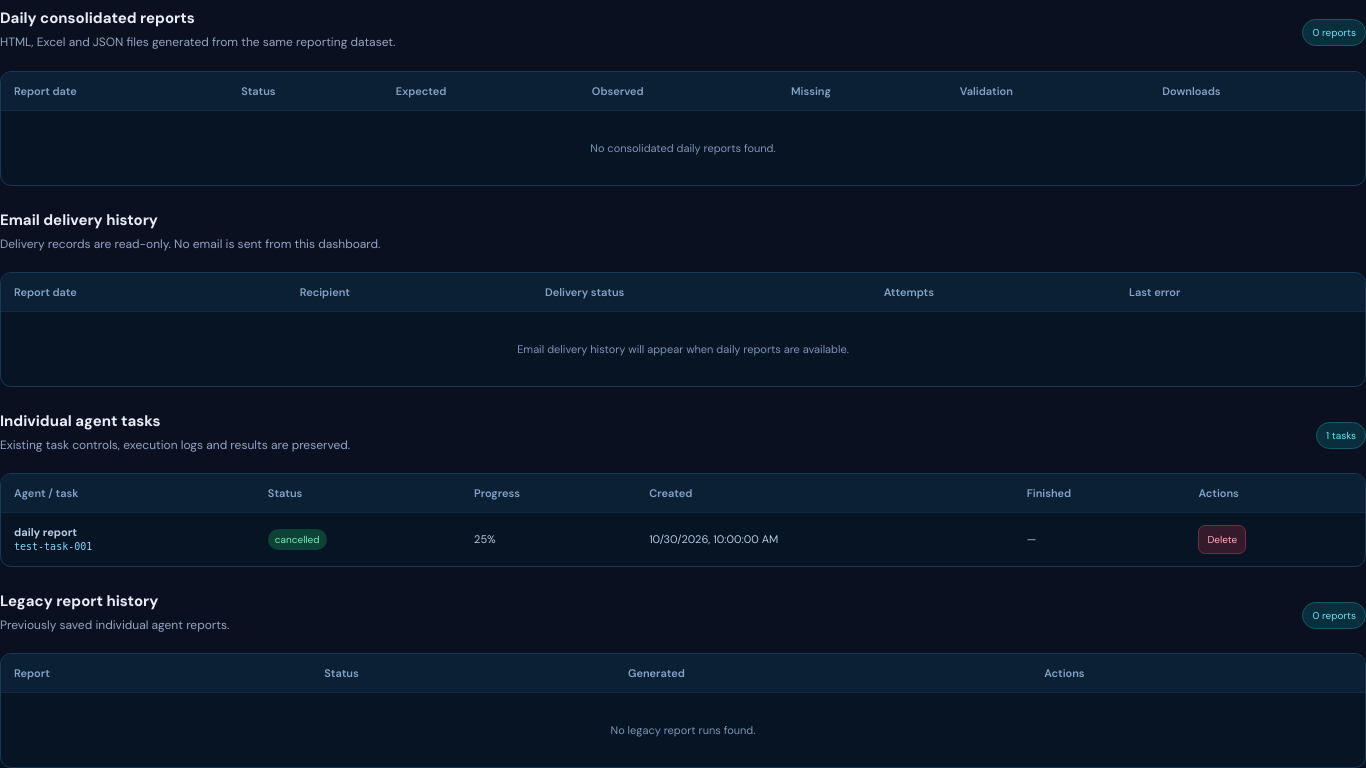
it: AgentMonitoring › deletes a cancelled task after confirmation
This screenshot has width=1366, height=768.
(page scrolled)
Expected: the text "test-task-001" is shown, [14,541,92,552]
Click the button "Delete".
click(1222, 539)  # box [1198,525,1246,554]
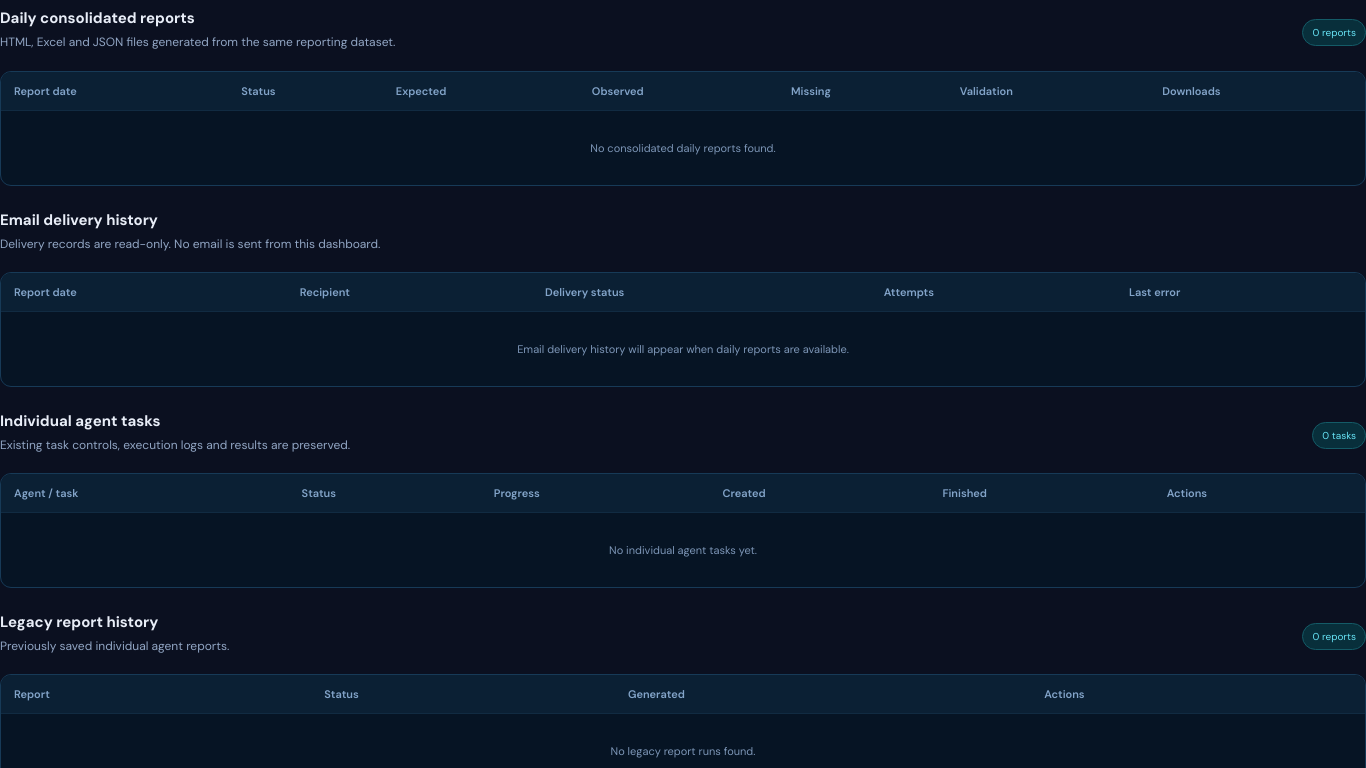
Expected: the text "No individual agent tasks yet." is shown, [609,543,757,557]
